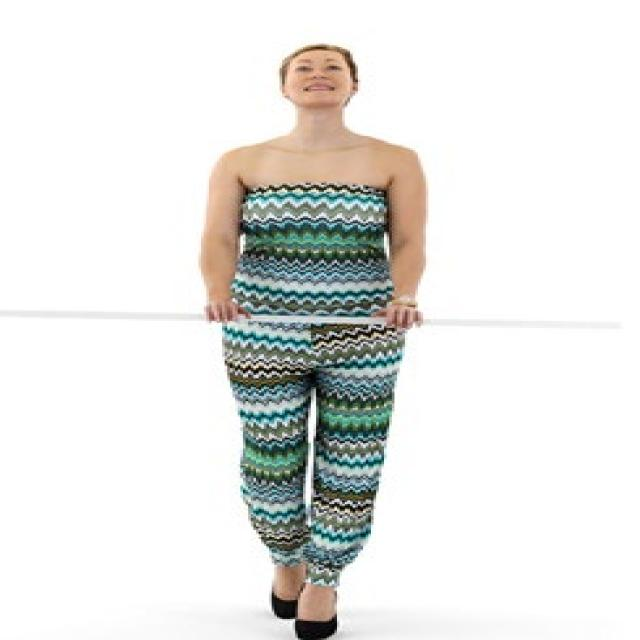standing: (191, 38, 439, 640)
